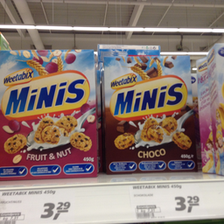cereal: (1, 49, 98, 180), (102, 55, 201, 174)
